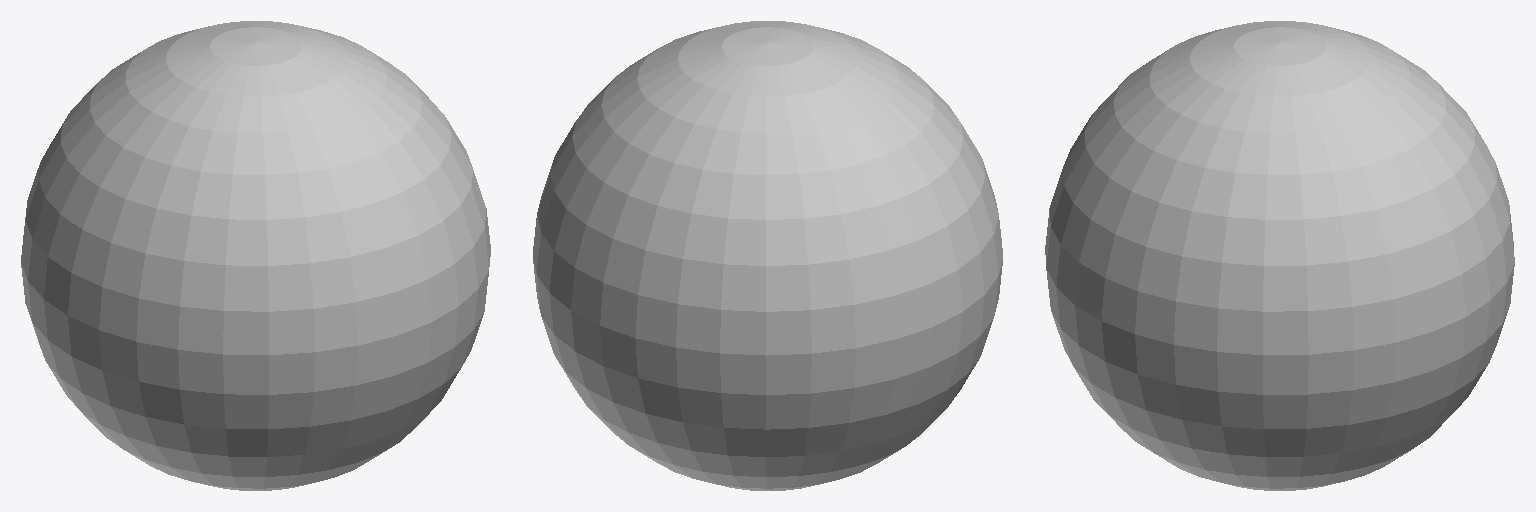
Rendered from mesh_bodyjoint_l4.obj.
The picture shows the model from 3 angles: view 1: azimuth 30°, elevation 25°; view 2: azimuth 150°, elevation 25°; view 3: azimuth 270°, elevation 25°; orthographic projection.
Parts seen in each view (by area): view 1: Sphere.016_Sphere.025; view 2: Sphere.016_Sphere.025; view 3: Sphere.016_Sphere.025.
Boxes of the visible parts, x1,y1,x2,y2 form: Sphere.016_Sphere.025: [21, 21, 490, 490]; Sphere.016_Sphere.025: [533, 21, 1002, 490]; Sphere.016_Sphere.025: [1045, 21, 1514, 490].
Bounding box in the file's own units: 0.2992 × 0.3 × 0.2992.